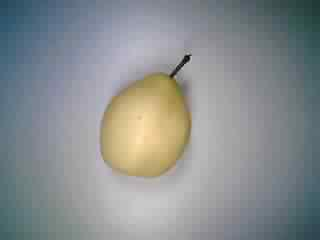pear: (90, 48, 195, 184)
